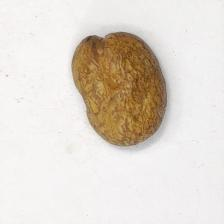NG: (77, 45, 164, 140)
